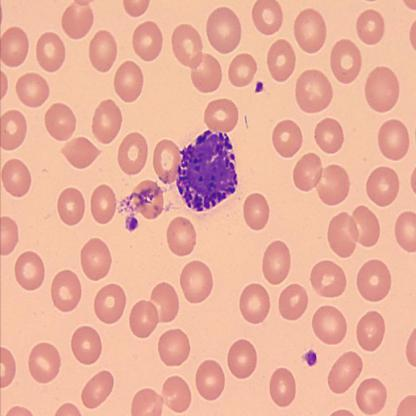Basophil: (173, 127, 240, 216)
